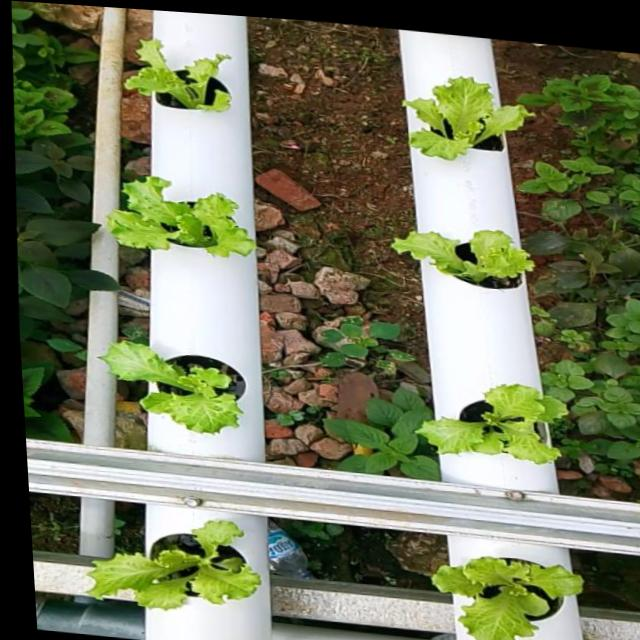Baby: (422, 532, 573, 638), (76, 510, 251, 600), (95, 339, 242, 432), (405, 378, 557, 459), (102, 175, 251, 256), (397, 77, 528, 160), (386, 229, 528, 288), (120, 40, 225, 112)
